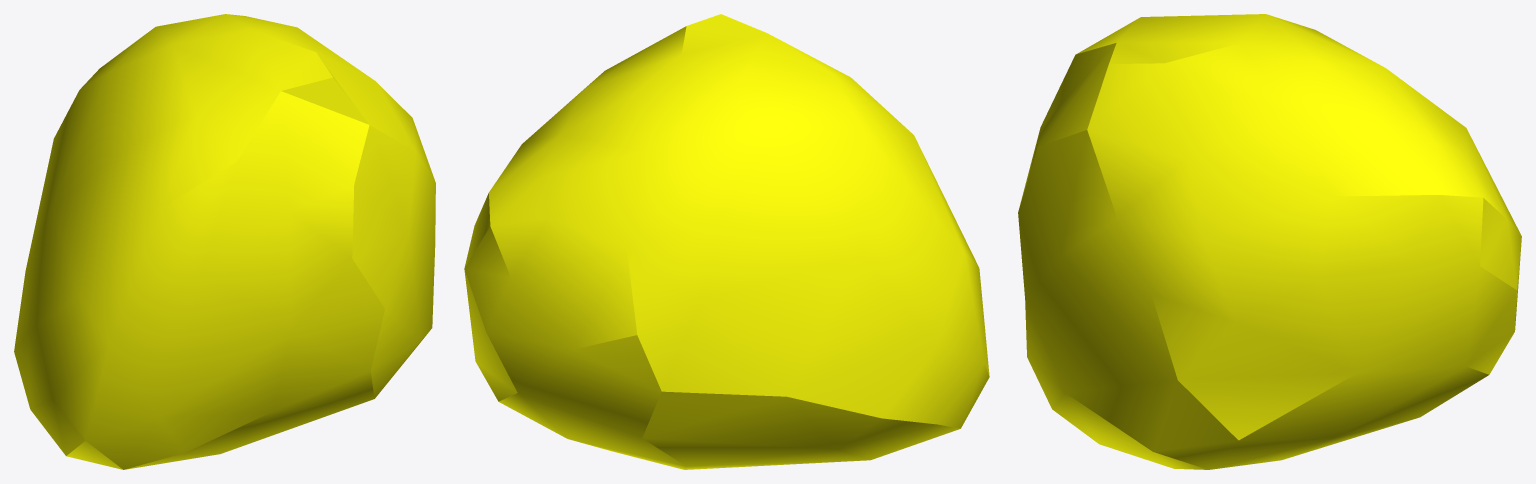
The model's file is kaykit-rock-3-l-color-1.glb.
The picture shows the model from 3 angles, left to right: view 1: azimuth 30°, elevation 25°; view 2: azimuth 150°, elevation 25°; view 3: azimuth 270°, elevation 25°; orthographic projection. The views are drawn at different scales.
Visible parts, largest first — view 1: Rock_3_L_Color1; view 2: Rock_3_L_Color1; view 3: Rock_3_L_Color1.
Boxes of the visible parts, x1,y1,x2,y2 form: Rock_3_L_Color1: (14, 14, 435, 469); Rock_3_L_Color1: (464, 14, 989, 469); Rock_3_L_Color1: (1018, 14, 1521, 469).
Bounding box in the file's own units: 2.62 × 2.27 × 2.56.
